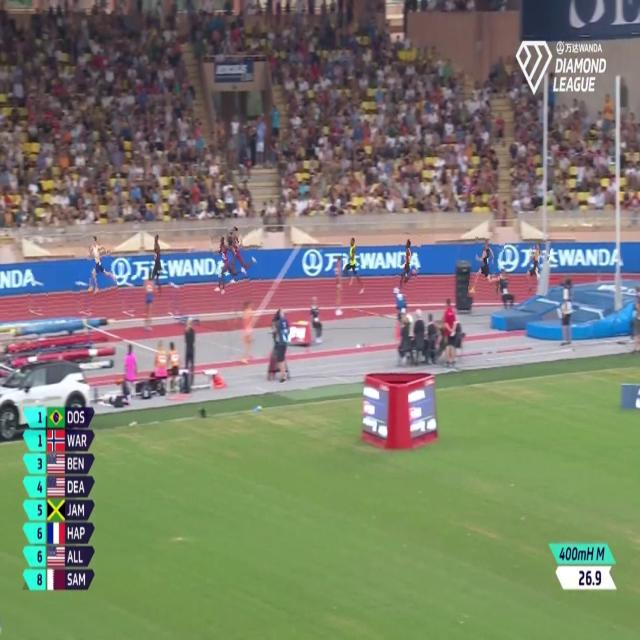athlete: (213, 231, 250, 298), (470, 231, 504, 300), (85, 228, 116, 301), (228, 220, 260, 283), (343, 230, 368, 298), (395, 232, 421, 294), (525, 238, 550, 295), (147, 228, 166, 298)
hurdle: (120, 275, 140, 323), (73, 278, 95, 318), (163, 277, 184, 318), (28, 274, 48, 317)
